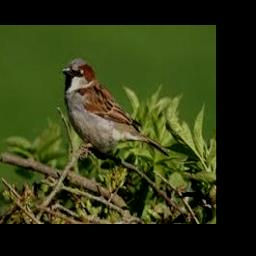Sparrow: (62, 58, 171, 158)
